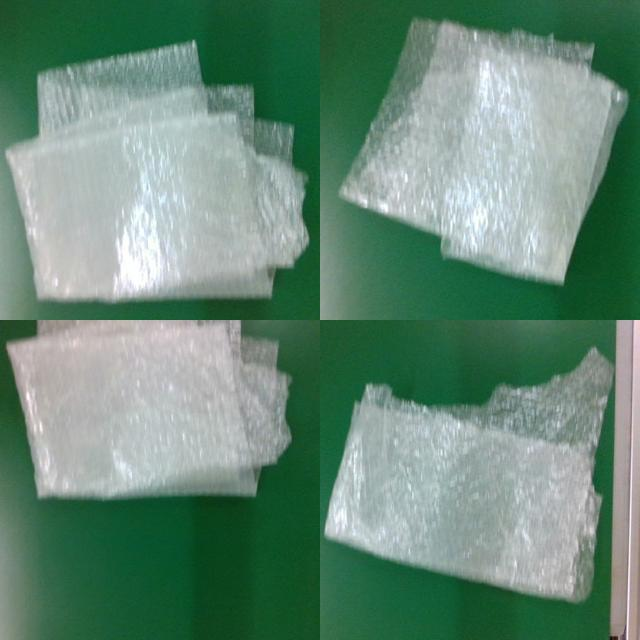Single-layer Plastic: (6, 41, 309, 302), (340, 18, 628, 284), (325, 348, 612, 602), (8, 320, 291, 499)
